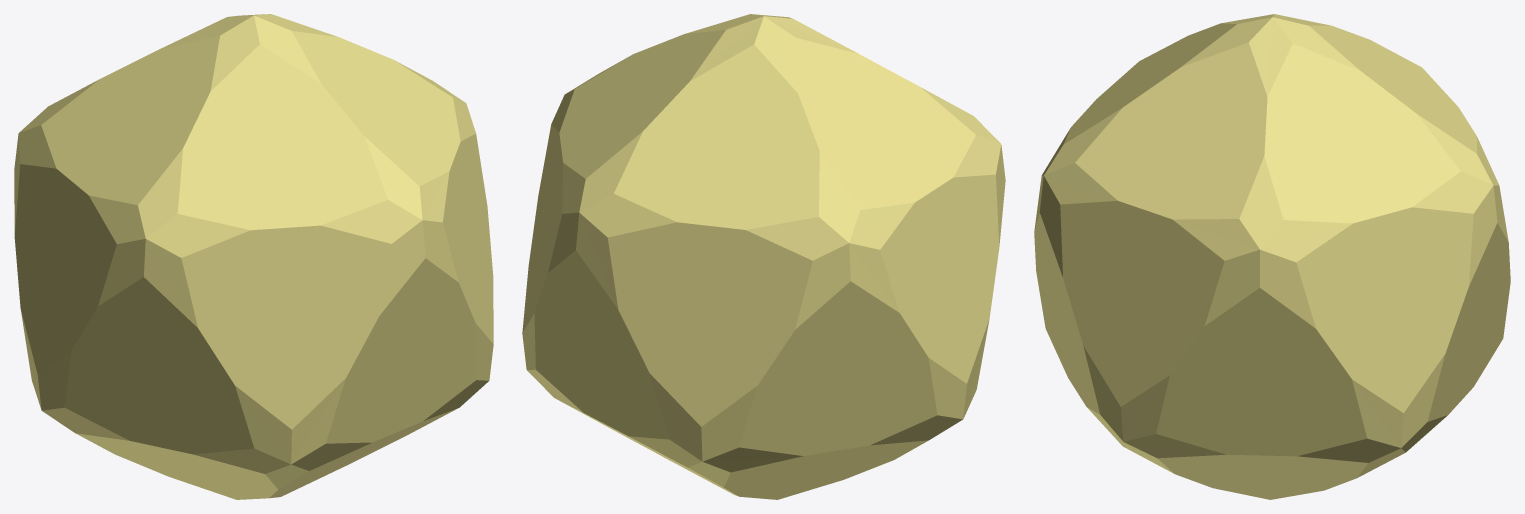
Rendered from dodecahedron.glb.
The picture shows the model from 3 angles, left to right: view 1: azimuth 30°, elevation 25°; view 2: azimuth 150°, elevation 25°; view 3: azimuth 270°, elevation 25°; orthographic projection.
Parts seen in each view (by area): view 1: Icosphere.004_0; view 2: Icosphere.004_0; view 3: Icosphere.004_0.
Boxes of the visible parts, x1,y1,x2,y2 form: Icosphere.004_0: [14, 14, 493, 499]; Icosphere.004_0: [522, 14, 1005, 499]; Icosphere.004_0: [1034, 14, 1510, 499].
Bounding box in the file's own units: 0.38 × 0.4179 × 0.3763.
